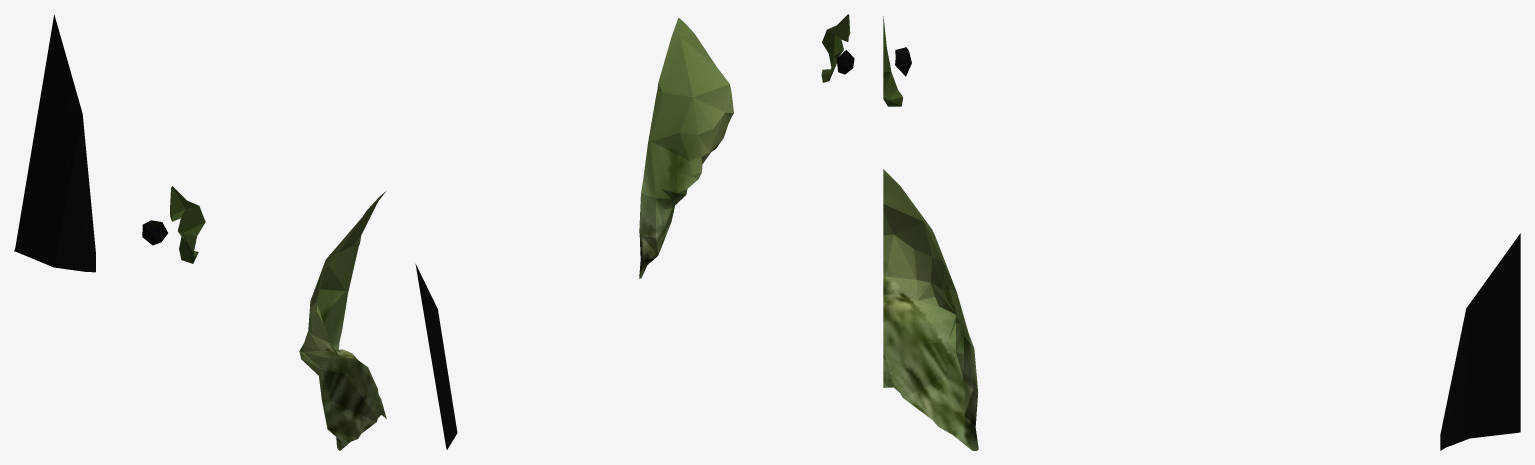
3 views of the same model, side by side, from view 1: azimuth 30°, elevation 25°; view 2: azimuth 150°, elevation 25°; view 3: azimuth 270°, elevation 25° (orthographic). The views are drawn at different scales.
Size of the model in its own units: 1.19 by 1.72 by 2.95.
Materials: 1 (1 with a texture image).
